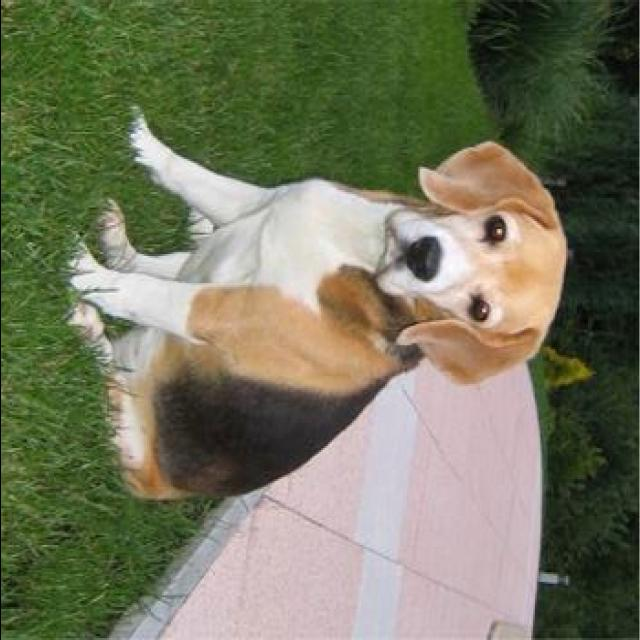beagle: (70, 112, 566, 506)
